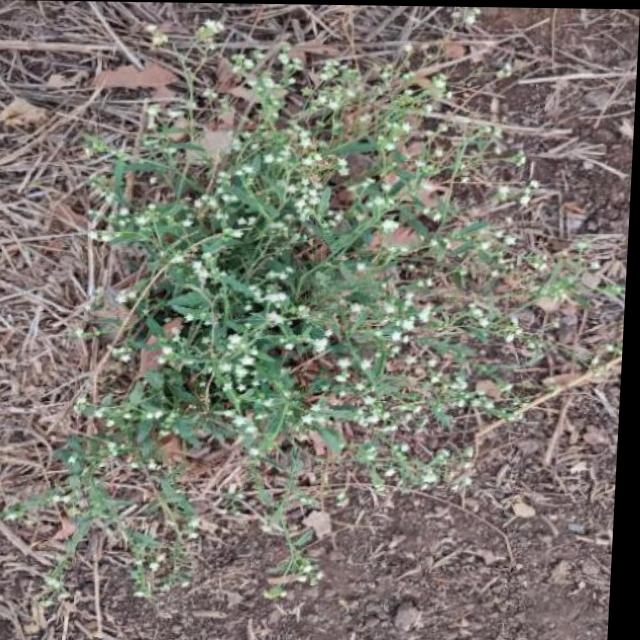weed: (65, 67, 512, 495)
